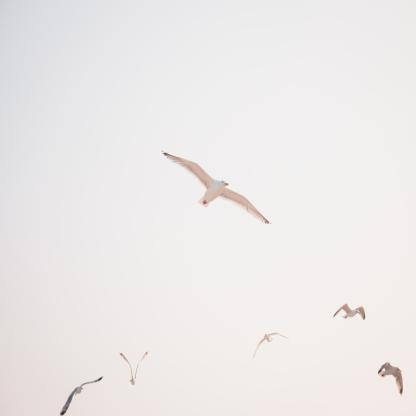bird: (162, 150, 272, 226), (60, 376, 103, 416), (252, 332, 289, 362), (119, 352, 148, 386), (378, 362, 403, 396), (332, 303, 366, 320)
